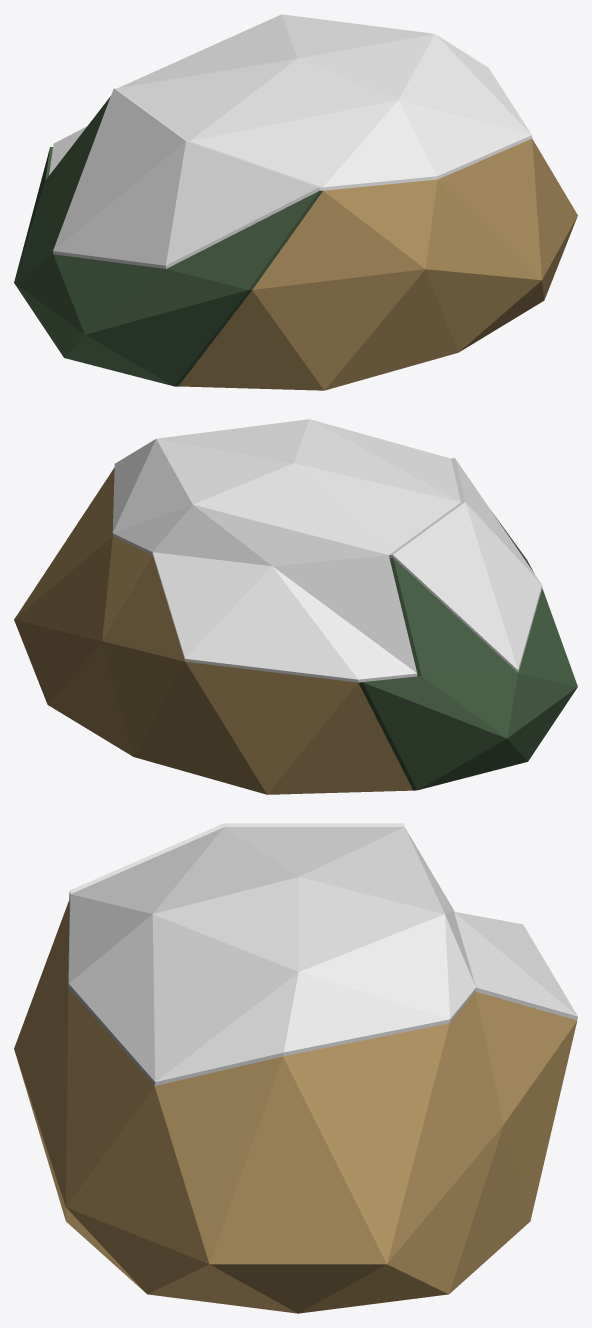
File: MossStone2Wb.fbx
3 renders of one model, top to bottom at view 1: azimuth 30°, elevation 25°; view 2: azimuth 150°, elevation 25°; view 3: azimuth 270°, elevation 25°, orthographic. The views are drawn at different scales.
Visible parts, largest first — view 1: MossStone2W.001; view 2: MossStone2W.001; view 3: MossStone2W.001.
Part boxes in pixels (bbox=[...]): MossStone2W.001: bbox=[14, 14, 577, 390]; MossStone2W.001: bbox=[14, 419, 577, 794]; MossStone2W.001: bbox=[14, 823, 577, 1313].
Size of the model in its own units: 496 by 234 by 393.
